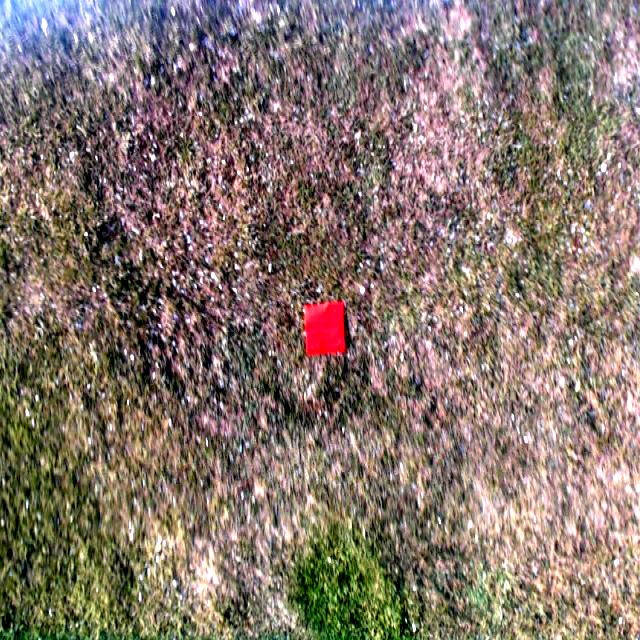red_square: (302, 300, 347, 355)
